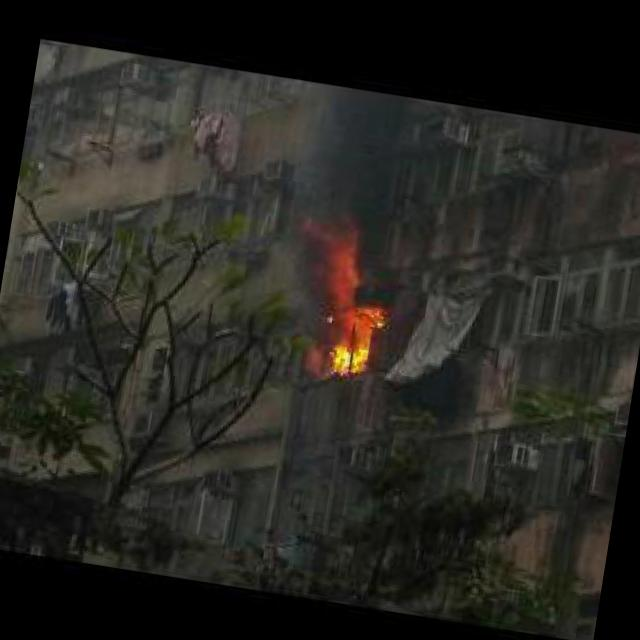fire: (324, 297, 386, 376)
smoke: (274, 78, 420, 314)
